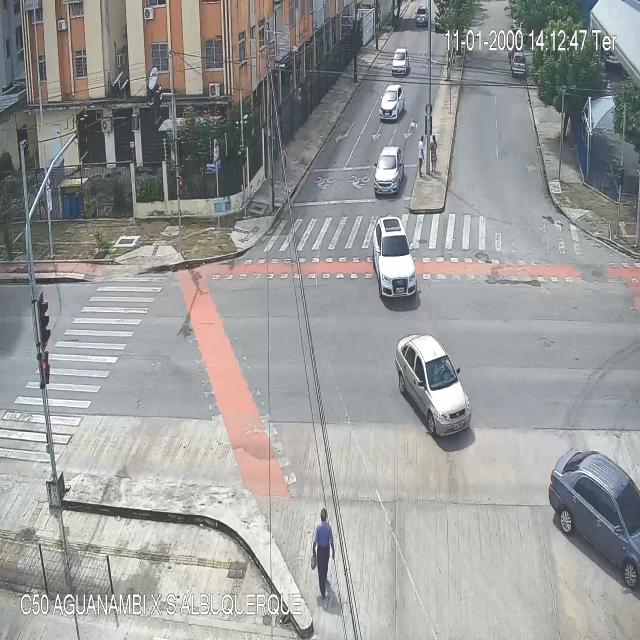Car: (549, 450, 640, 588), (394, 335, 472, 438), (372, 218, 418, 301), (375, 147, 403, 196), (379, 83, 405, 121), (393, 46, 408, 76), (512, 54, 524, 76), (416, 6, 428, 27)
